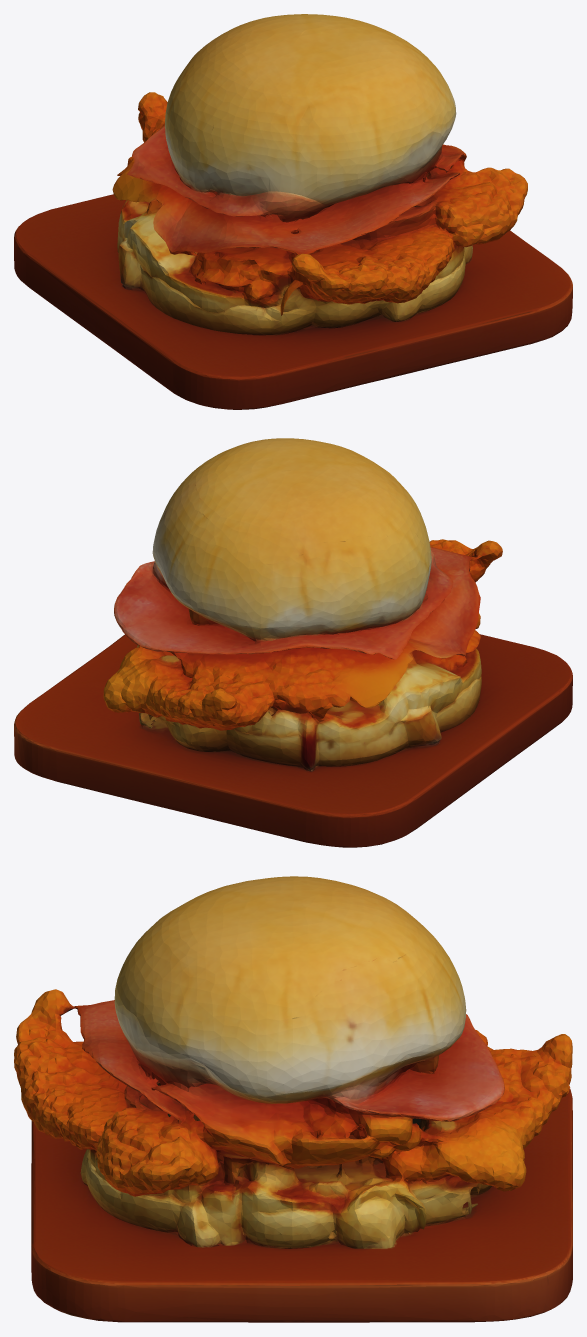
Rendered from new_york_style.glb.
The picture shows the model from 3 angles, top to bottom: view 1: azimuth 30°, elevation 25°; view 2: azimuth 150°, elevation 25°; view 3: azimuth 270°, elevation 25°; orthographic projection. The views are drawn at different scales.
Visible parts, largest first — view 1: world; view 2: world; view 3: world.
Part boxes in pixels (x1=…): world: x1=14, y1=14, x2=572, y2=409; world: x1=14, y1=438, x2=572, y2=847; world: x1=14, y1=876, x2=572, y2=1322.
Bounding box in the file's own units: 0.9644 × 0.6292 × 0.9987.
1 material, 1 textured.
